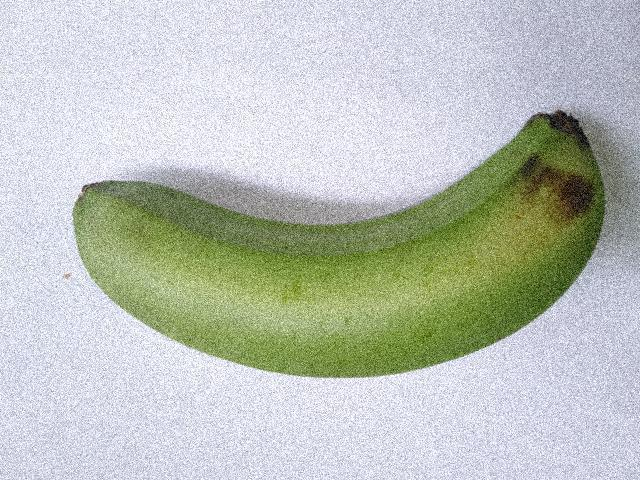freshunripe: (58, 94, 603, 399)
